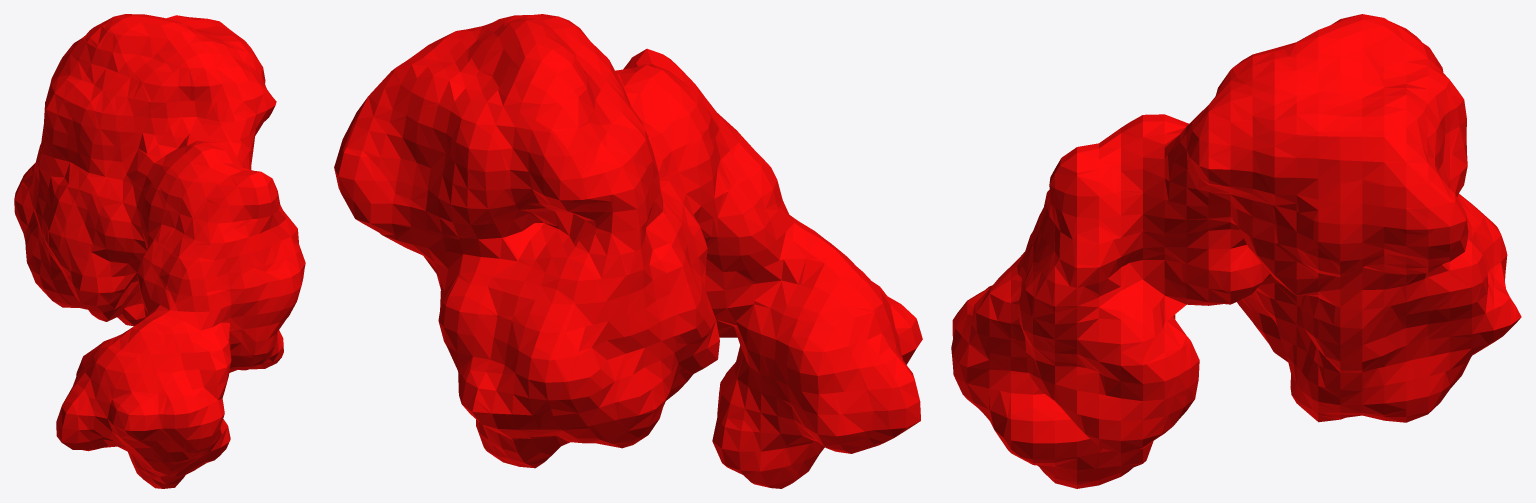
File: recG_coarse.dae
The picture shows the model from 3 angles, left to right: view 1: azimuth 30°, elevation 25°; view 2: azimuth 150°, elevation 25°; view 3: azimuth 270°, elevation 25°; orthographic projection. The views are drawn at different scales.
Visible parts, largest first — view 1: recG; view 2: recG; view 3: recG.
Boxes of the visible parts, x1=… form: recG: x1=14, y1=14, x2=305, y2=488; recG: x1=334, y1=14, x2=922, y2=488; recG: x1=951, y1=14, x2=1521, y2=488.
Bounding box in the file's own units: 75.05 × 91.51 × 91.63.
